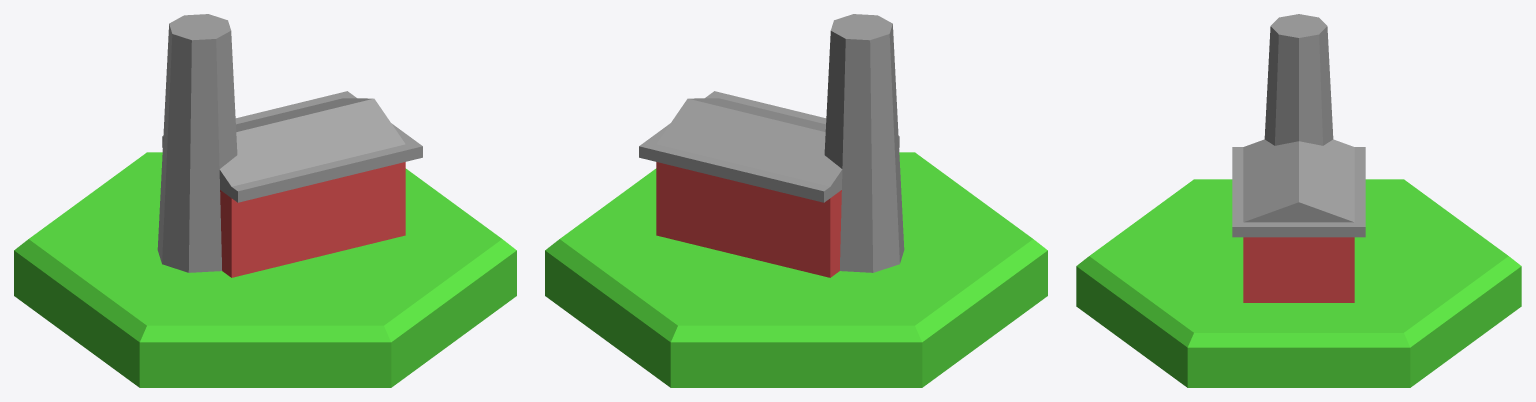
File: tile_factory_normal.fbx
3 views of the same model, side by side, from view 1: azimuth 30°, elevation 25°; view 2: azimuth 150°, elevation 25°; view 3: azimuth 270°, elevation 25° (orthographic). The views are drawn at different scales.
Parts seen in each view (by area): view 1: Pad, Building; view 2: Pad, Building; view 3: Pad, Building.
Boxes of the visible parts, box(x1,y1,x2,y2) form: Pad: box(14, 152, 516, 387); Building: box(157, 14, 422, 277); Pad: box(545, 152, 1047, 387); Building: box(639, 14, 904, 277); Pad: box(1076, 179, 1521, 387); Building: box(1232, 14, 1365, 302).
Bounding box in the file's own units: 346 × 250 × 400.
